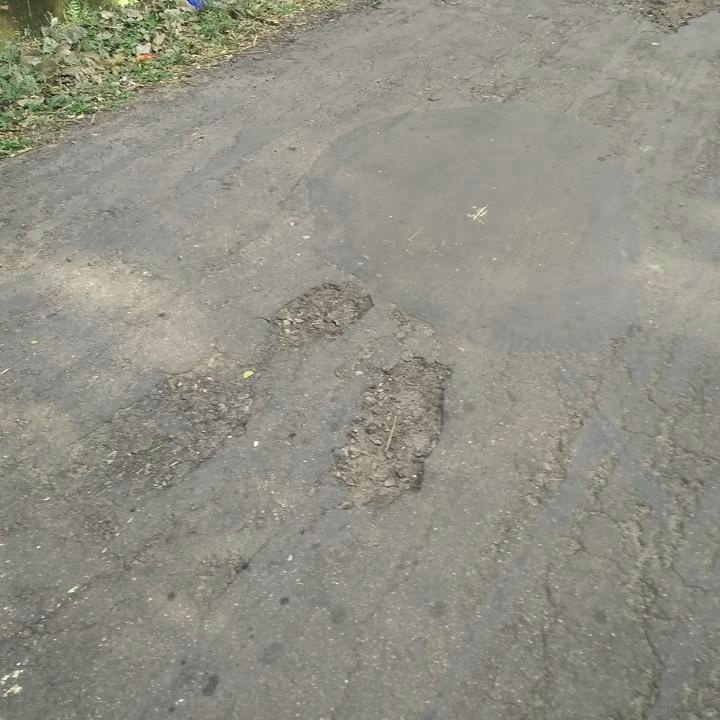pothole: (66, 351, 260, 493), (329, 350, 451, 514), (263, 279, 377, 354), (605, 0, 718, 34)
